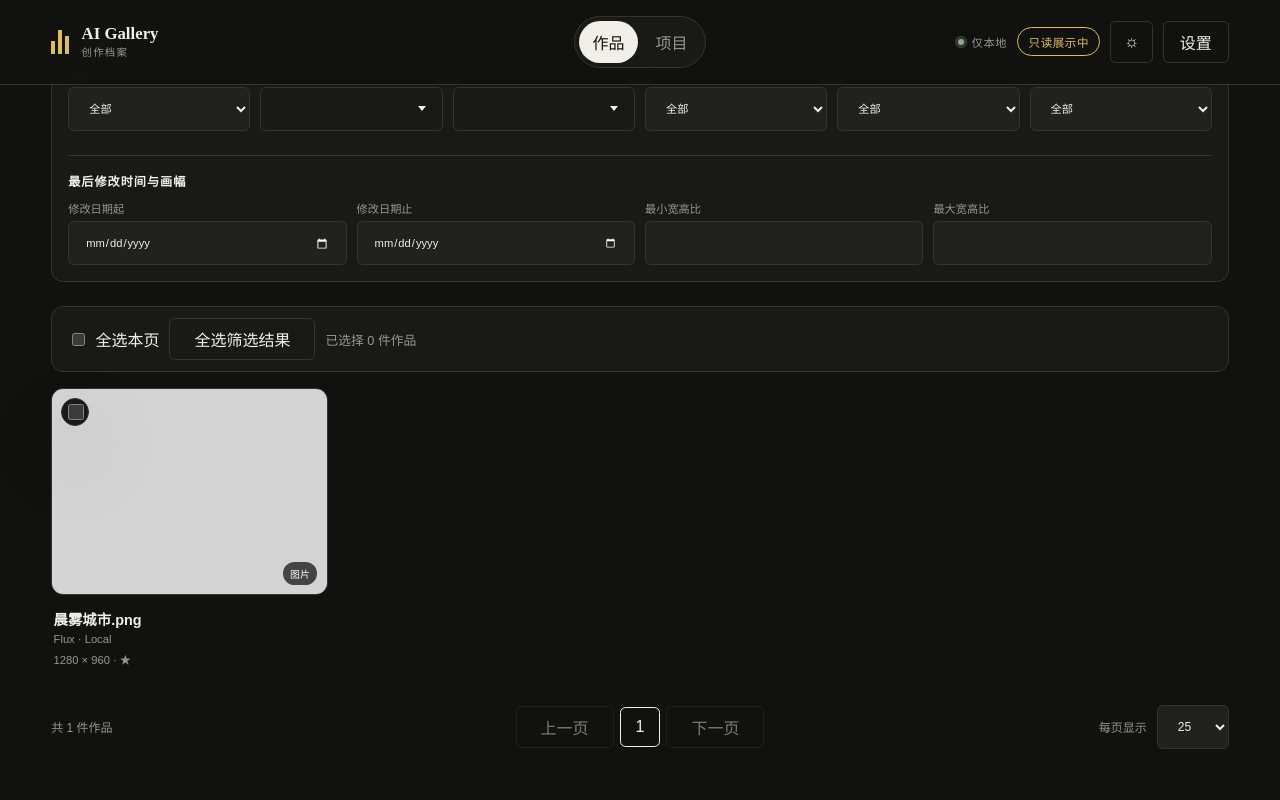
M2 作品库页面 › 只读展示模式隐藏所有写入和管理入口，但保留筛选、预览与复制
The width and height of the screenshot is (1280, 800).
(page scrolled)
Expected: the heading "晨雾城市.png" is shown, [54, 612, 142, 628]
Step 1. Click the button "图片 晨雾城市.png Flux · Local 1280 × 960 · ★" → (189, 535), box [51, 388, 328, 681]
(page scrolled)
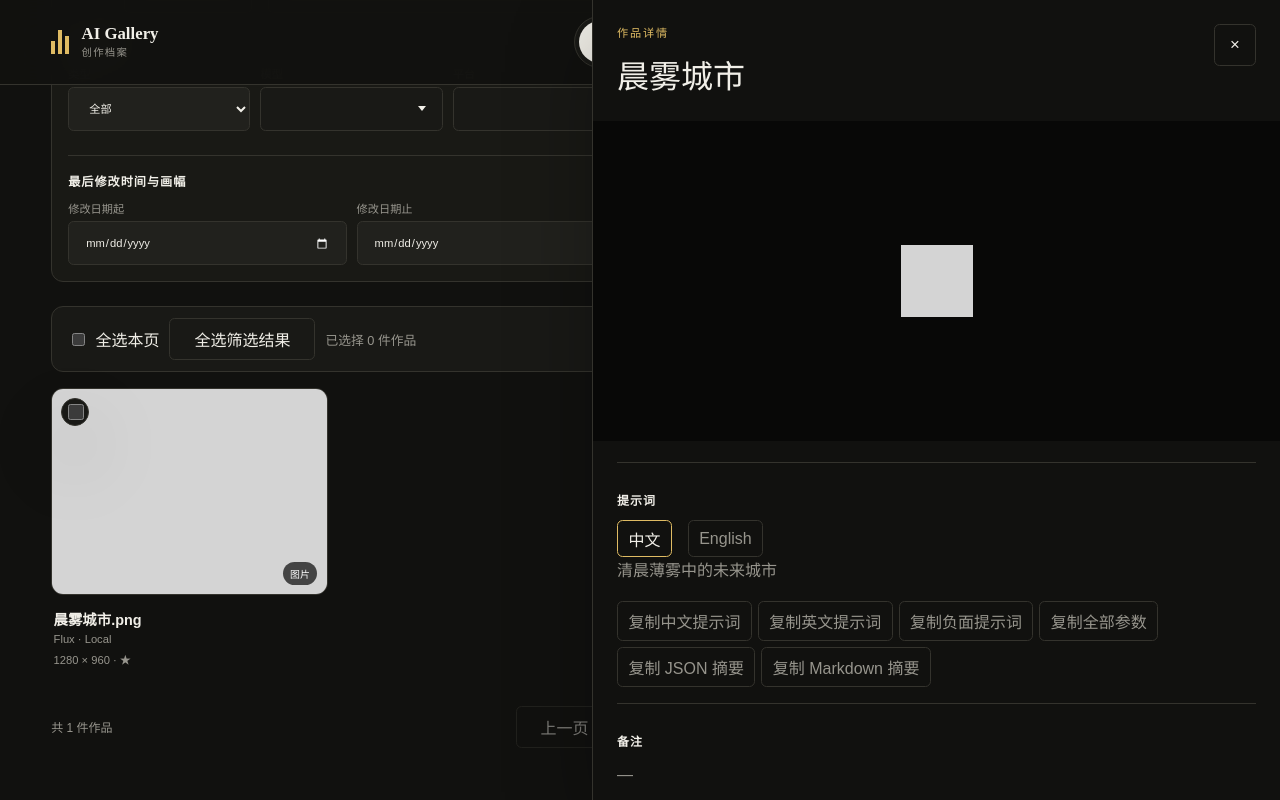
Result: the dialog "晨雾城市" is shown at [592, 0, 1279, 799]
Result: the button "复制中文提示词" is enabled at [617, 601, 752, 641]
